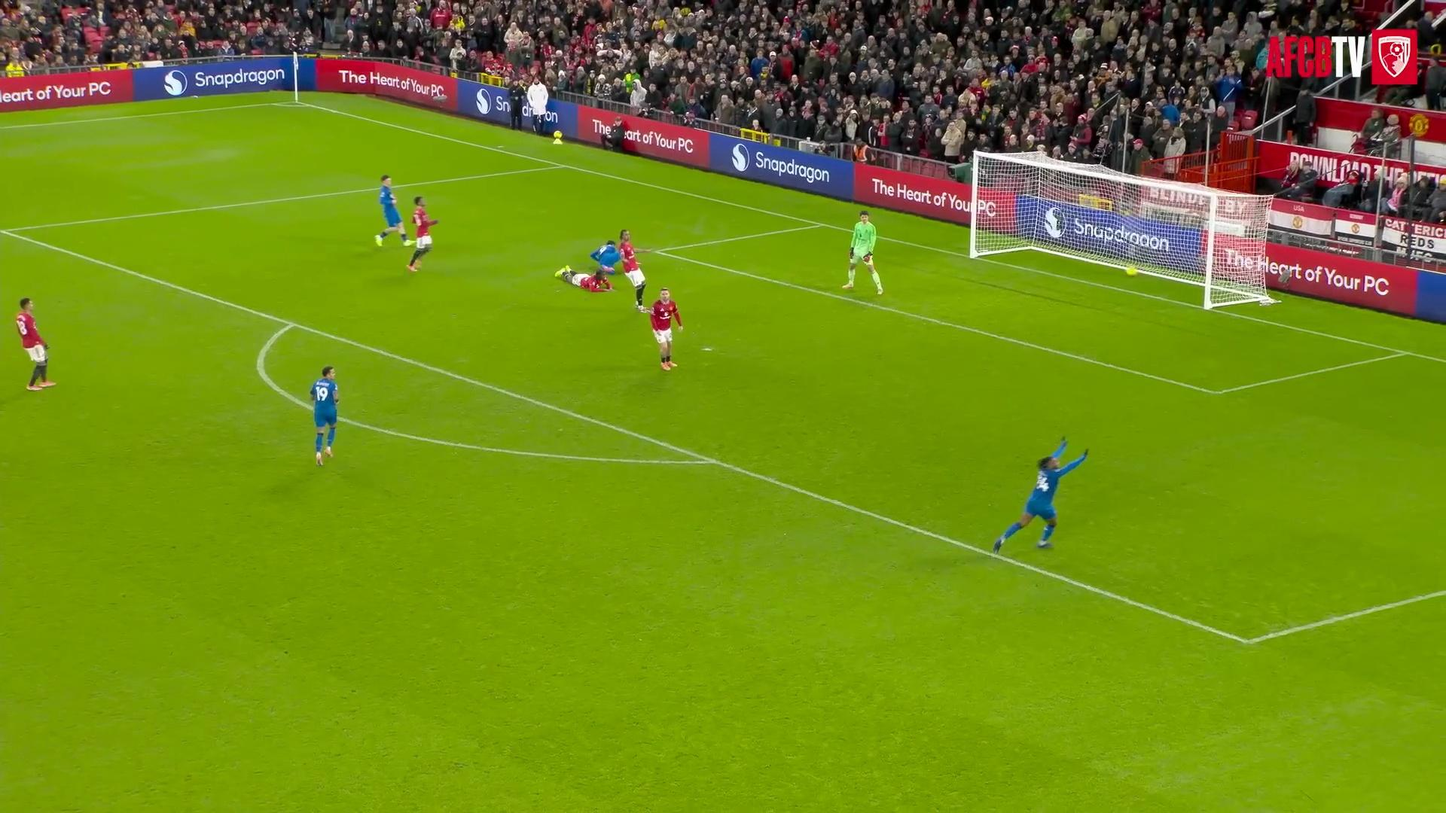football: (1122, 258, 1150, 285)
player: (993, 438, 1088, 552), (16, 297, 54, 390), (843, 211, 883, 294), (310, 365, 337, 465), (650, 288, 682, 370), (375, 175, 411, 246), (618, 230, 648, 312), (407, 196, 438, 271), (554, 266, 612, 291), (590, 241, 621, 274)
